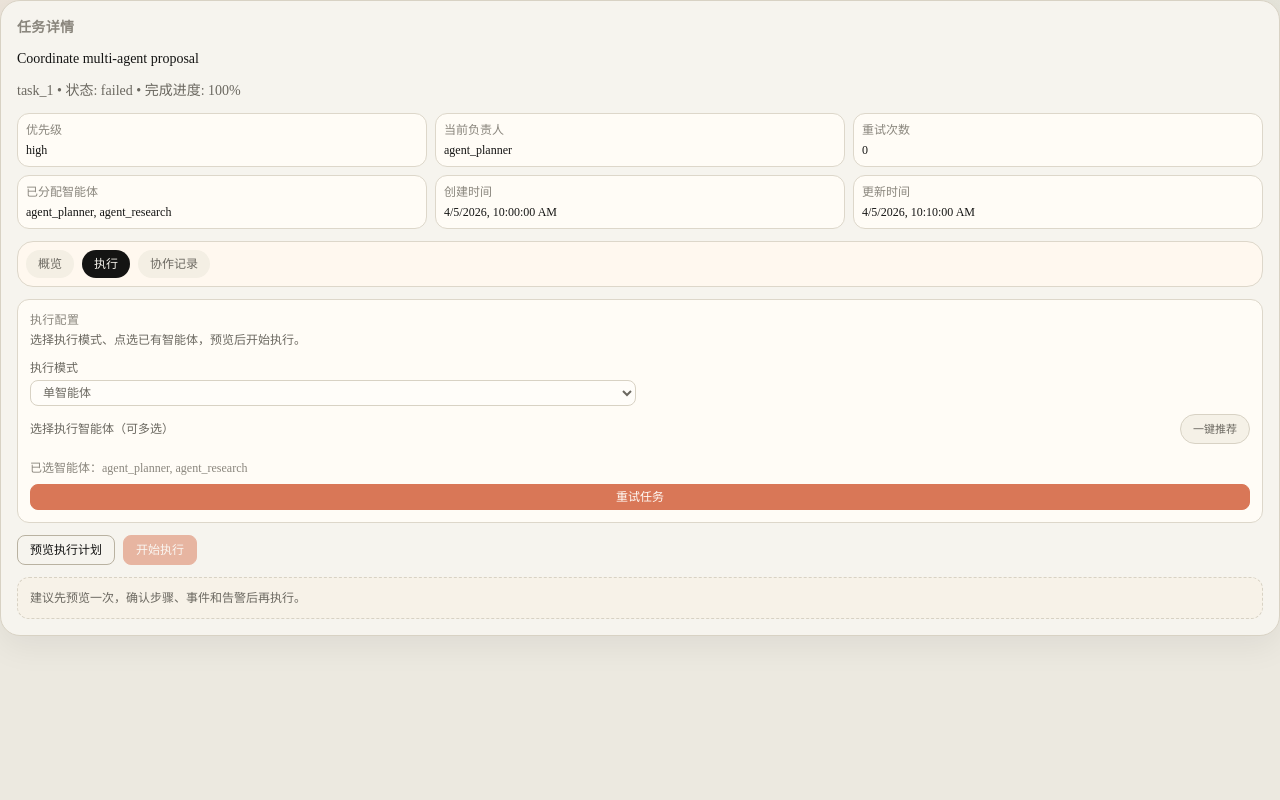
TaskDetail › shows friendly retry-limit error when retry is exhausted
What coordinates should you click on to do the following:
click the button with test id "task-retry-button"
I would click on:
 (640, 497)
Its box is [30,484,1250,510].
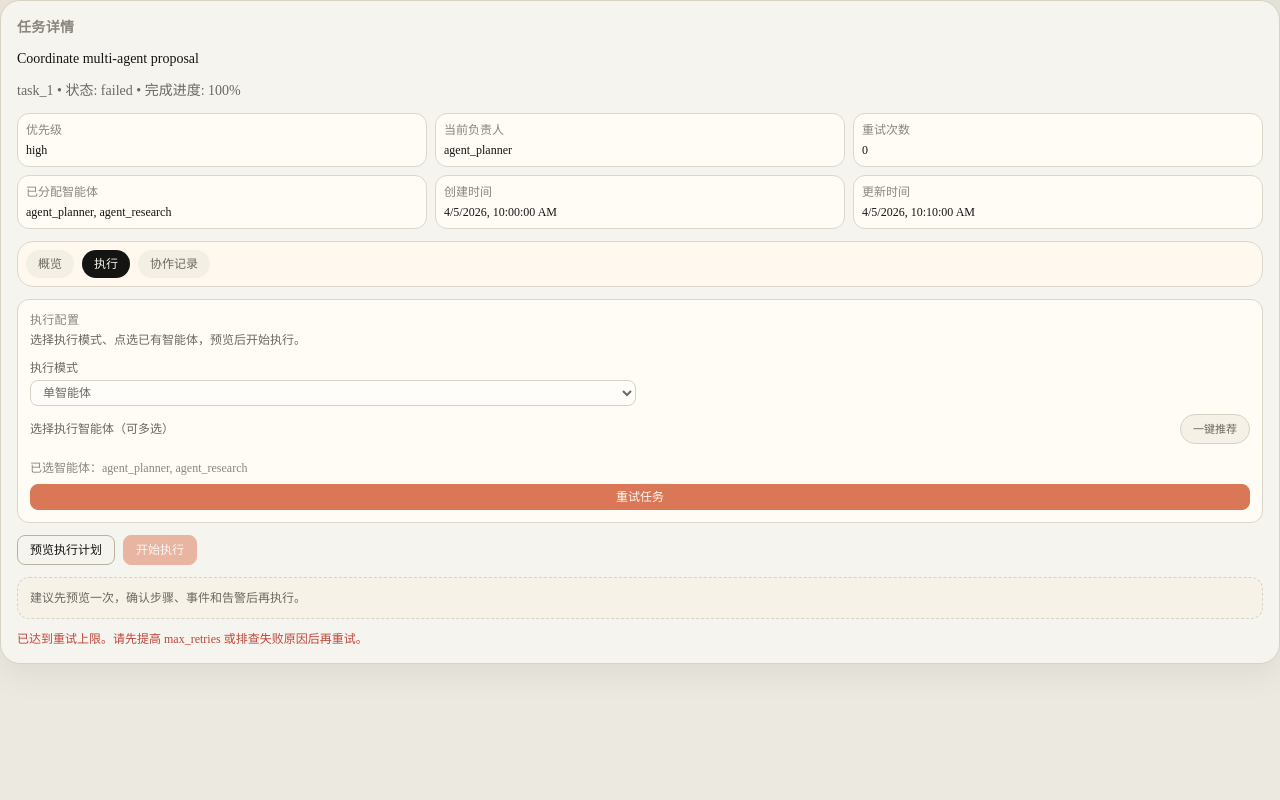
Check: the text "已达到重试上限。请先提高 max_retries 或排查失败原因后再重试。" is shown, box [17,632,368,646]
